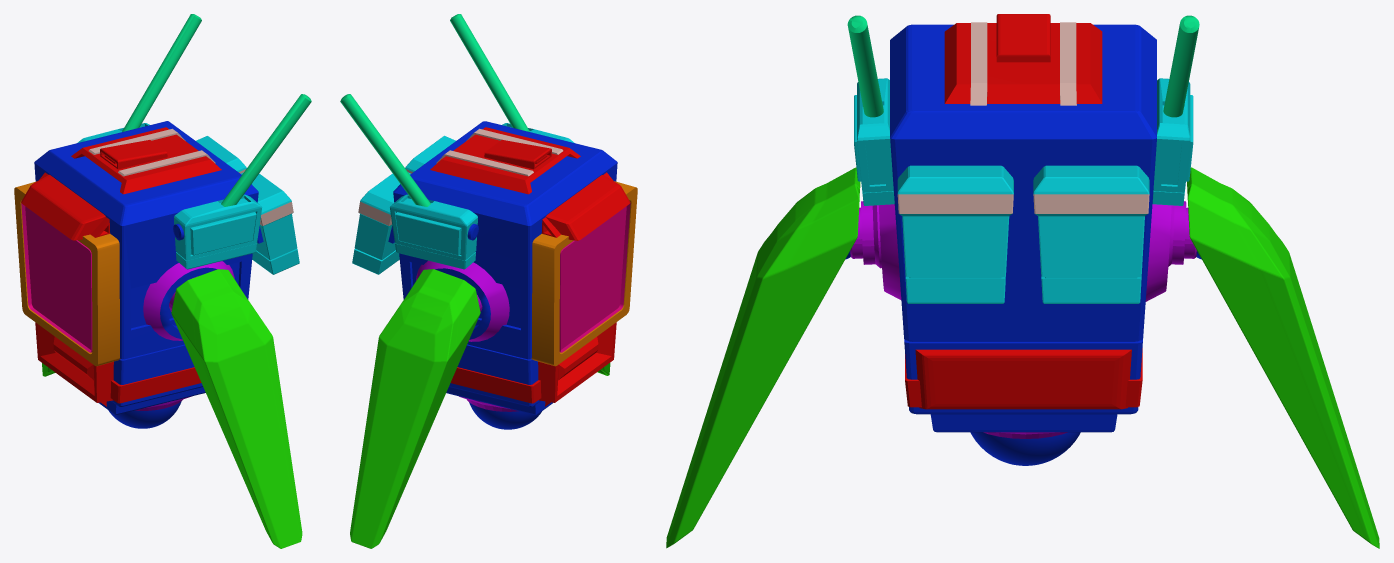
The model's file is robot_sd.fbx.
3 views of the same model, side by side, from view 1: azimuth 30°, elevation 25°; view 2: azimuth 150°, elevation 25°; view 3: azimuth 270°, elevation 25° (orthographic). The views are drawn at different scales.
Visible parts, largest first — view 1: Cube.001, Cube.003; view 2: Cube.001, Cube.002; view 3: Cube.001, Cube.003, Cube.002.
Boxes of the visible parts, x1,y1,x2,y2 form: Cube.001: [14, 14, 311, 428]; Cube.003: [169, 269, 302, 548]; Cube.001: [340, 14, 637, 429]; Cube.002: [350, 269, 482, 548]; Cube.001: [847, 14, 1199, 465]; Cube.003: [666, 167, 881, 548]; Cube.002: [1168, 167, 1379, 548].
Bounding box in the file's own units: 278 × 478 × 529.
